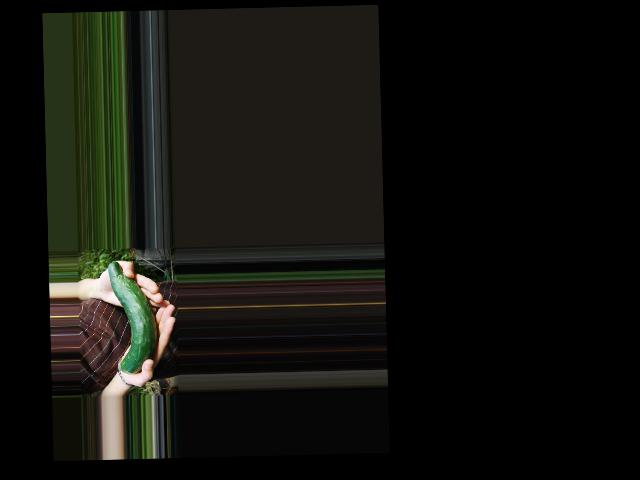cucumber: (108, 261, 158, 375)
